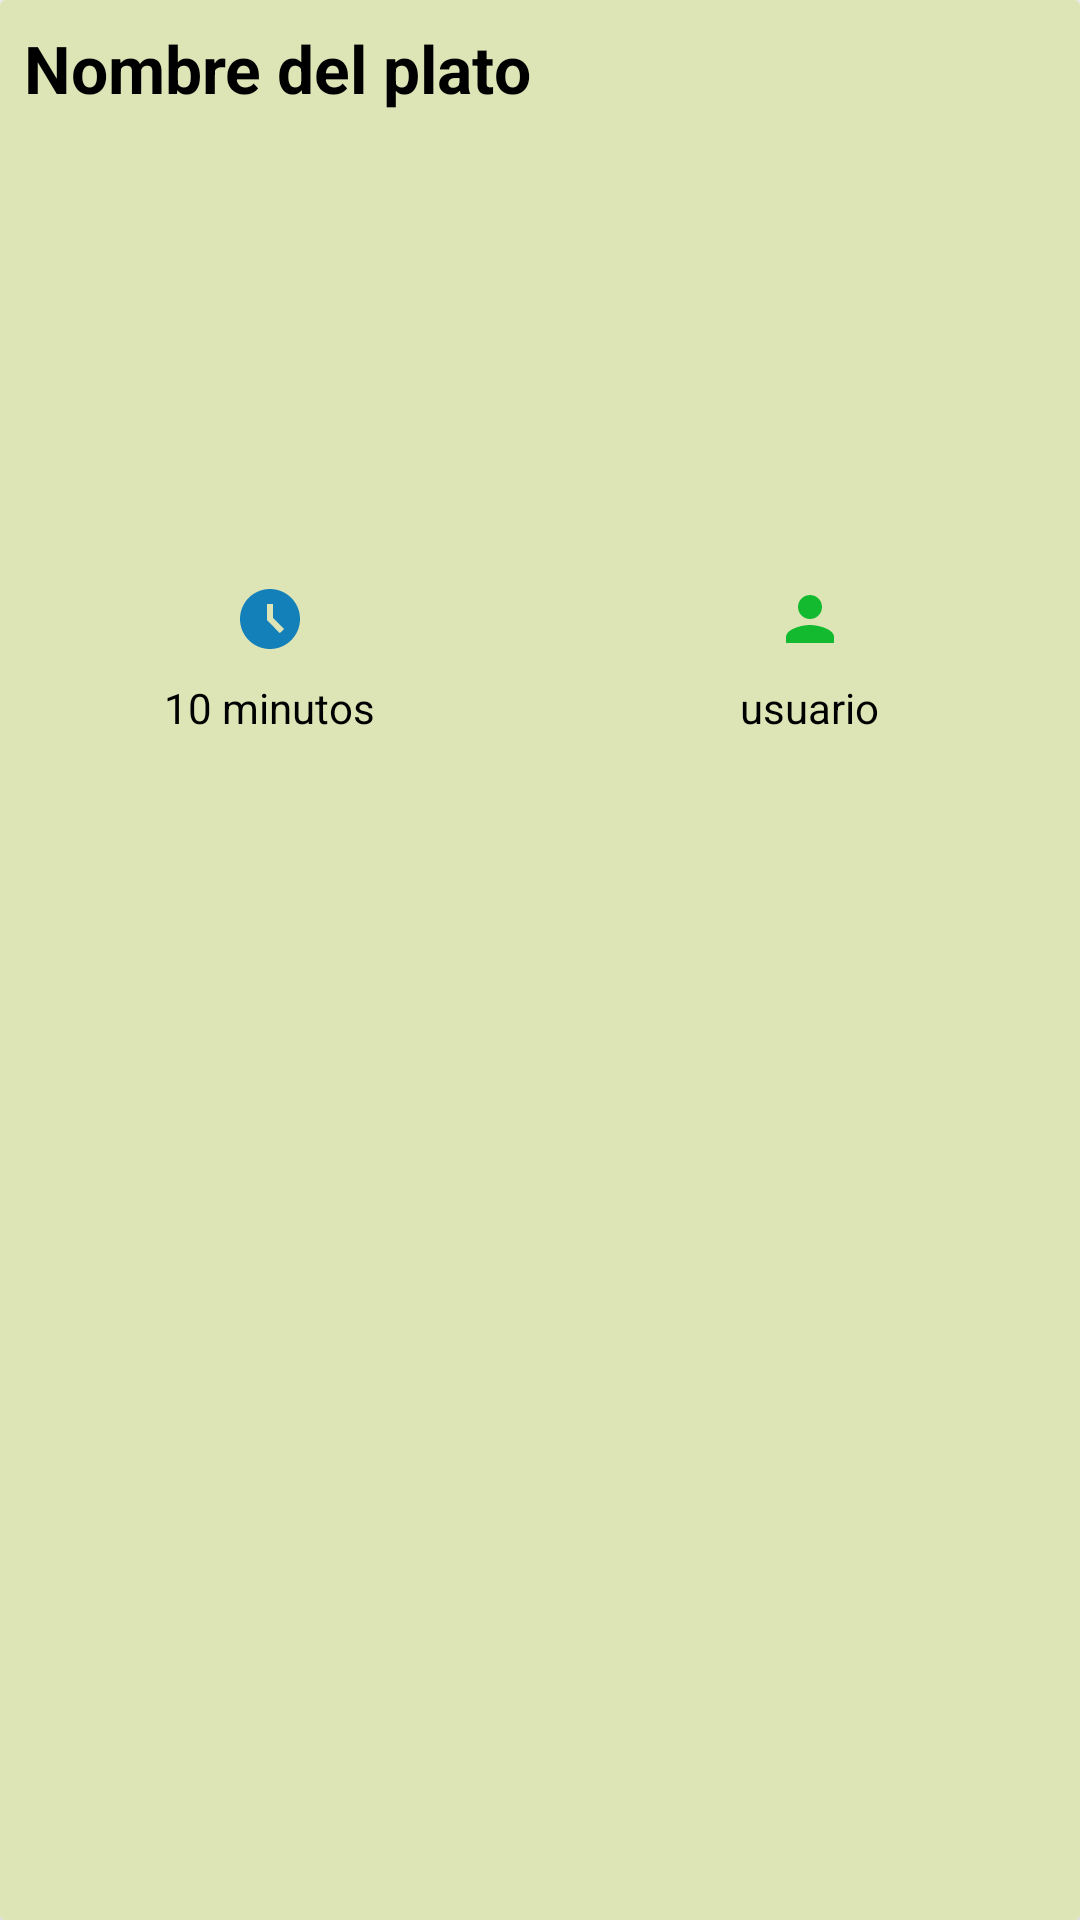

Point at icon controls on the screen. Image size 1080w x 1920h, points as [x,y].
access time: [270,619]
person: [810,619]
